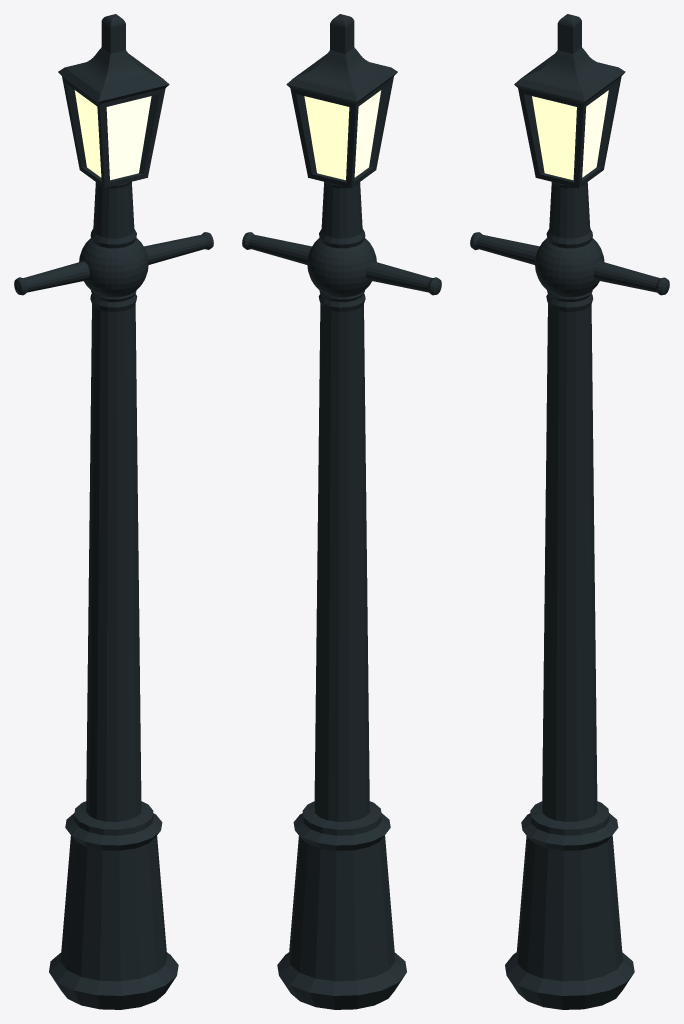
Rendered from lantaarn_park.fbx.
3 renders of one model, left to right at view 1: azimuth 30°, elevation 25°; view 2: azimuth 150°, elevation 25°; view 3: azimuth 330°, elevation 25°, orthographic.
Visible parts, largest first — view 1: Cylinder, Cube, Sphere, Cylinder.002, Cylinder.001; view 2: Cylinder, Cube, Sphere, Cylinder.002, Cylinder.001; view 3: Cylinder, Cube, Sphere, Cylinder.001, Cylinder.002.
Part boxes in pixels (left/top/right/bottom): Cylinder: left=49, top=181, right=178, bottom=1009; Cube: left=58, top=14, right=169, bottom=188; Sphere: left=79, top=238, right=148, bottom=297; Cylinder.002: left=14, top=261, right=89, bottom=295; Cylinder.001: left=144, top=232, right=213, bottom=264; Cylinder: left=277, top=181, right=406, bottom=1009; Cube: left=286, top=14, right=397, bottom=188; Sphere: left=307, top=238, right=376, bottom=297; Cylinder.002: left=366, top=261, right=441, bottom=295; Cylinder.001: left=242, top=232, right=311, bottom=264; Cylinder: left=505, top=182, right=634, bottom=1009; Cube: left=514, top=14, right=625, bottom=188; Sphere: left=535, top=238, right=604, bottom=297; Cylinder.001: left=593, top=261, right=669, bottom=295; Cylinder.002: left=470, top=232, right=539, bottom=264.
Size of the model in its own units: 336 by 1596 by 195.
